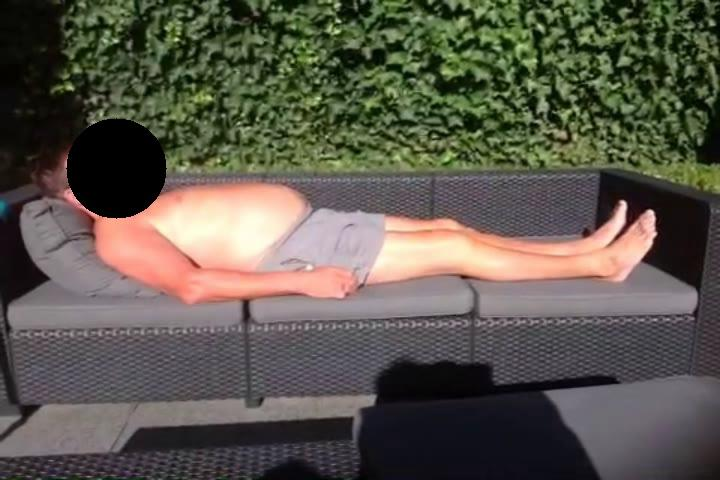lower_body: (287, 199, 660, 289)
